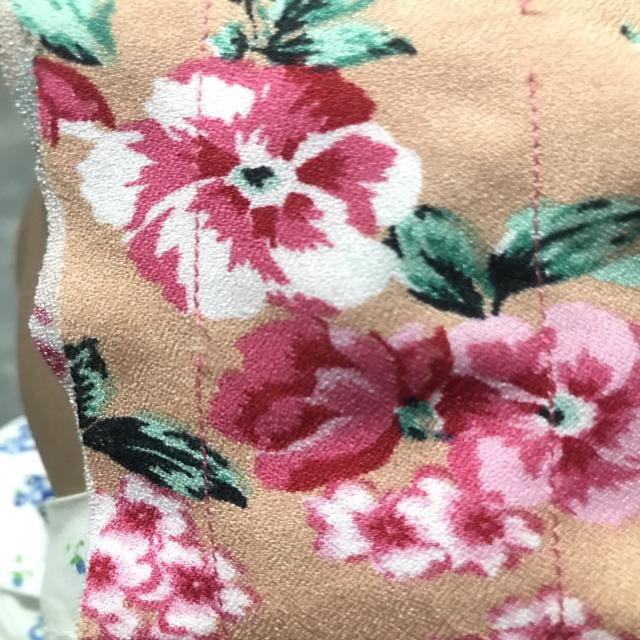broken: (172, 300, 222, 396)
